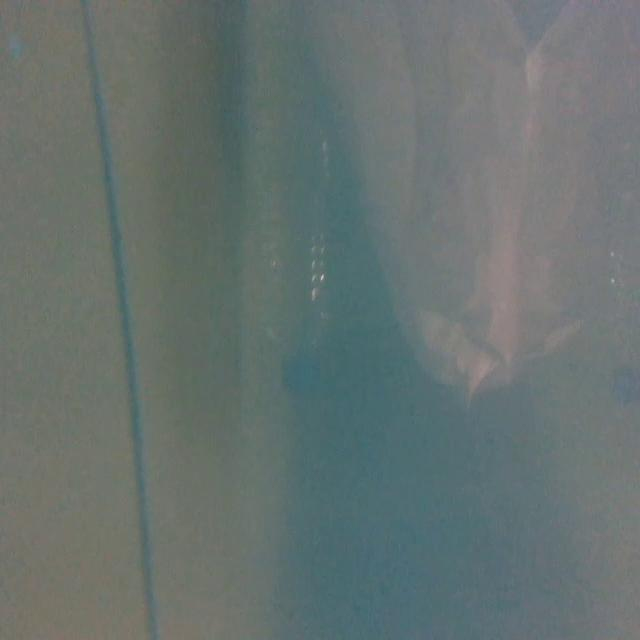plastic bags: (350, 0, 544, 403)
plastic bottle: (264, 88, 342, 425)
